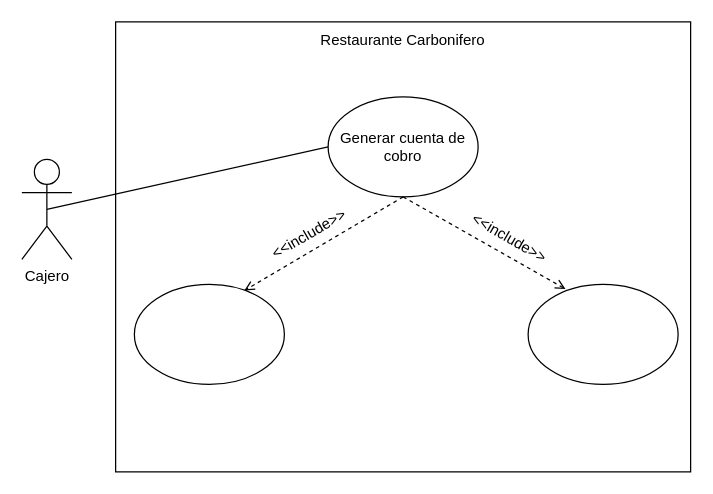
This 713x494 diagram has some shape labels left out. Each missing label, with the box of its shape:
Gestionar devolucion de platos: (527, 283, 678, 384)
Ordenar platos por mesa: (133, 283, 284, 384)
